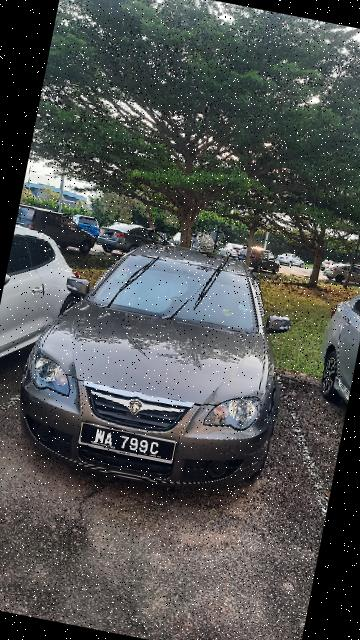License_Plate: (71, 414, 185, 474)
car: (5, 218, 313, 512)
